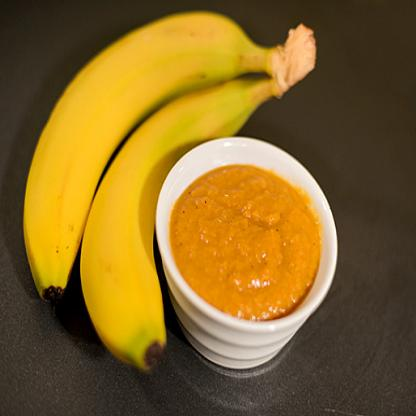banana: (19, 5, 270, 296), (80, 69, 291, 379)
